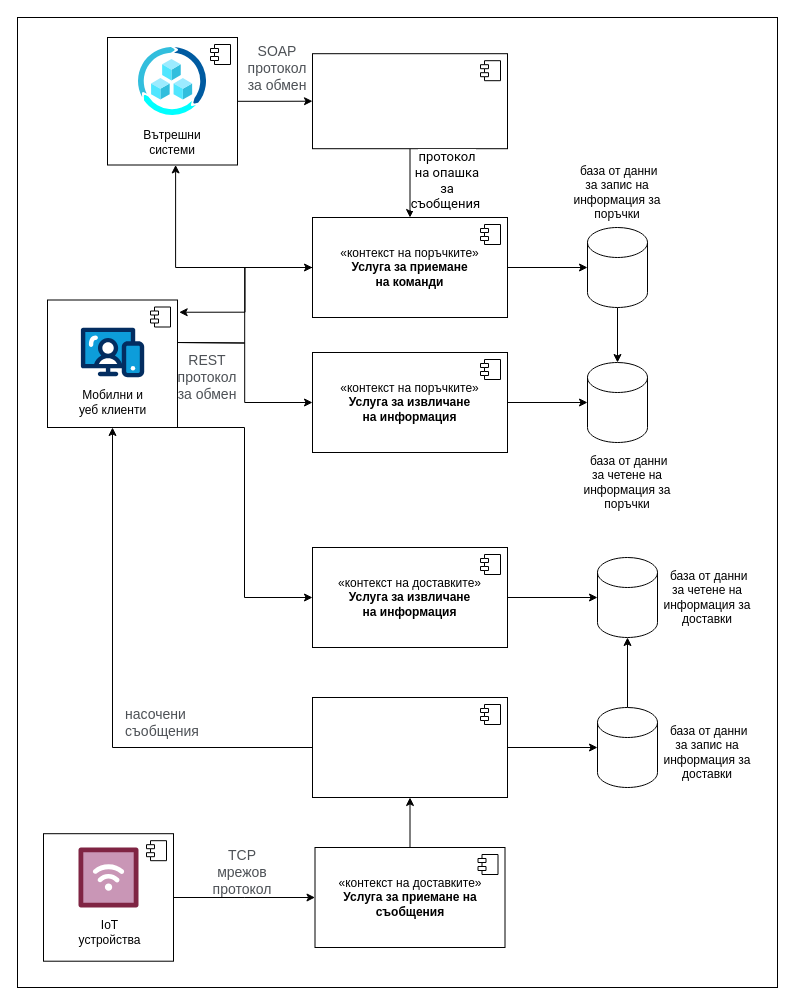
The diagram is 795 pixels wide and 1005 high, and some of its shapes have lost their labels. The centre of each missing label's shape, as x and y in pixels:
«контекст на доставките» Услуга за приемане на команди: pixel 410 747
«контекст на поръчките» Услуга за приемане на съобщения: pixel 410 101
